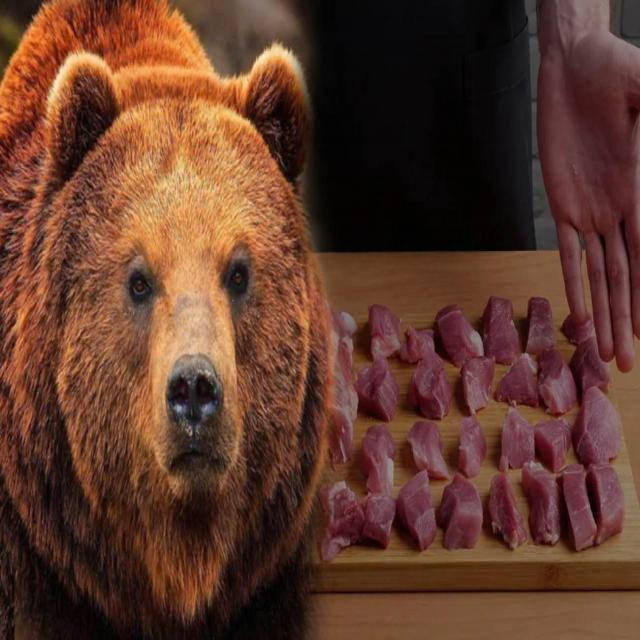Bear: (0, 0, 342, 640)
